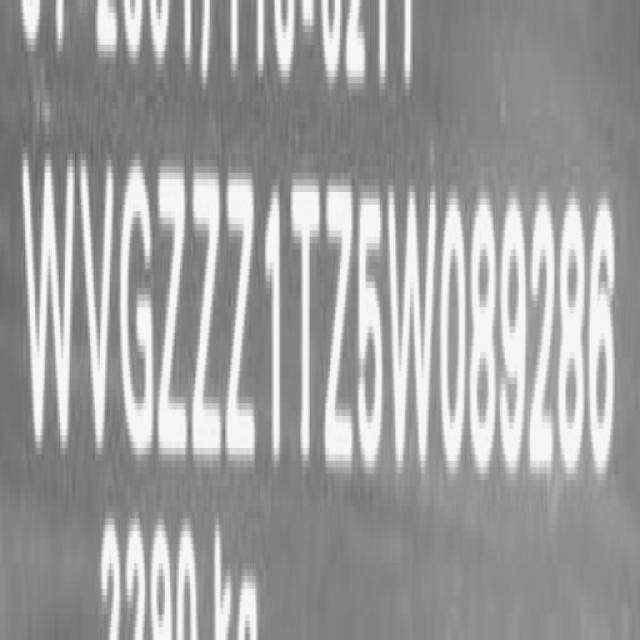0: (439, 190, 468, 484)
1: (261, 165, 288, 480)
2: (529, 197, 557, 482)
5: (356, 176, 386, 484)
6: (590, 188, 622, 480)
8: (556, 190, 587, 482), (470, 190, 499, 482)
9: (500, 194, 530, 484)
G: (119, 154, 155, 458)
T: (289, 168, 323, 478)
V: (80, 157, 114, 455)
W: (22, 144, 74, 470), (388, 163, 435, 473)
Z: (192, 152, 224, 474), (225, 159, 257, 476), (158, 158, 190, 472), (323, 167, 354, 482)
